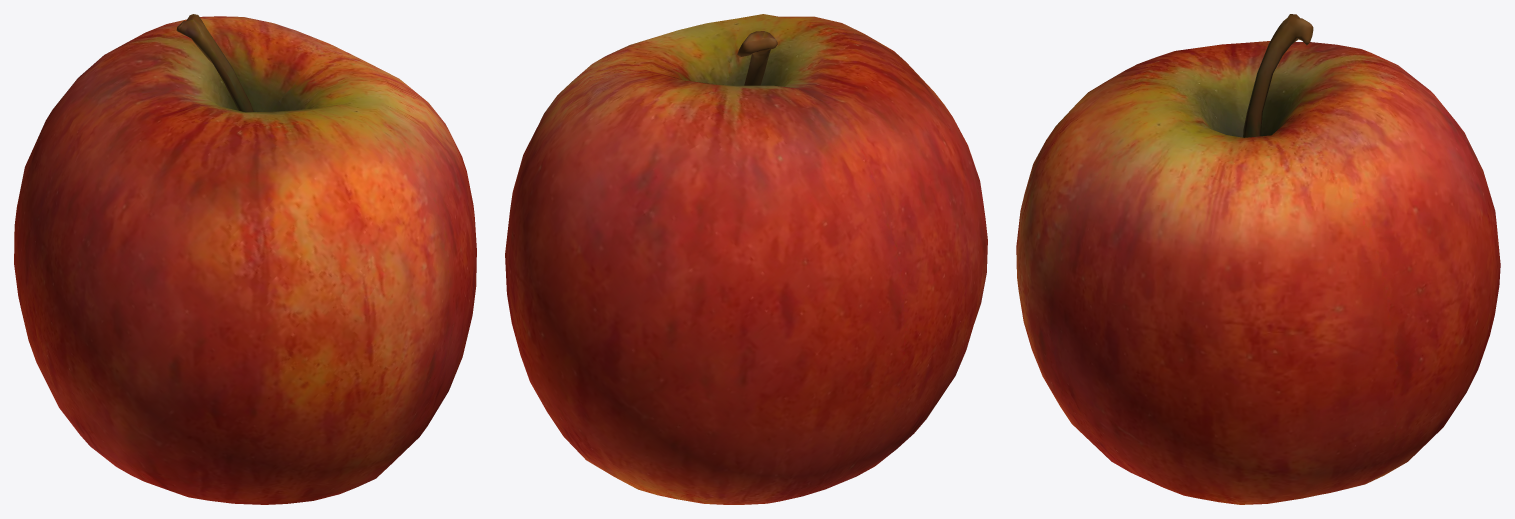
Rendered from apple.glb.
3 renders of one model, left to right at view 1: azimuth 30°, elevation 25°; view 2: azimuth 150°, elevation 25°; view 3: azimuth 270°, elevation 25°, orthographic. The views are drawn at different scales.
Parts seen in each view (by area): view 1: apple_low_obj_Material__35_0; view 2: apple_low_obj_Material__35_0; view 3: apple_low_obj_Material__35_0.
Part boxes in pixels (left/top/right/bottom): apple_low_obj_Material__35_0: left=14, top=14, right=476, bottom=504; apple_low_obj_Material__35_0: left=505, top=14, right=987, bottom=504; apple_low_obj_Material__35_0: left=1016, top=14, right=1500, bottom=504.
Size of the model in its own units: 0.072 by 0.075 by 0.0775.
1 material, 1 textured.
